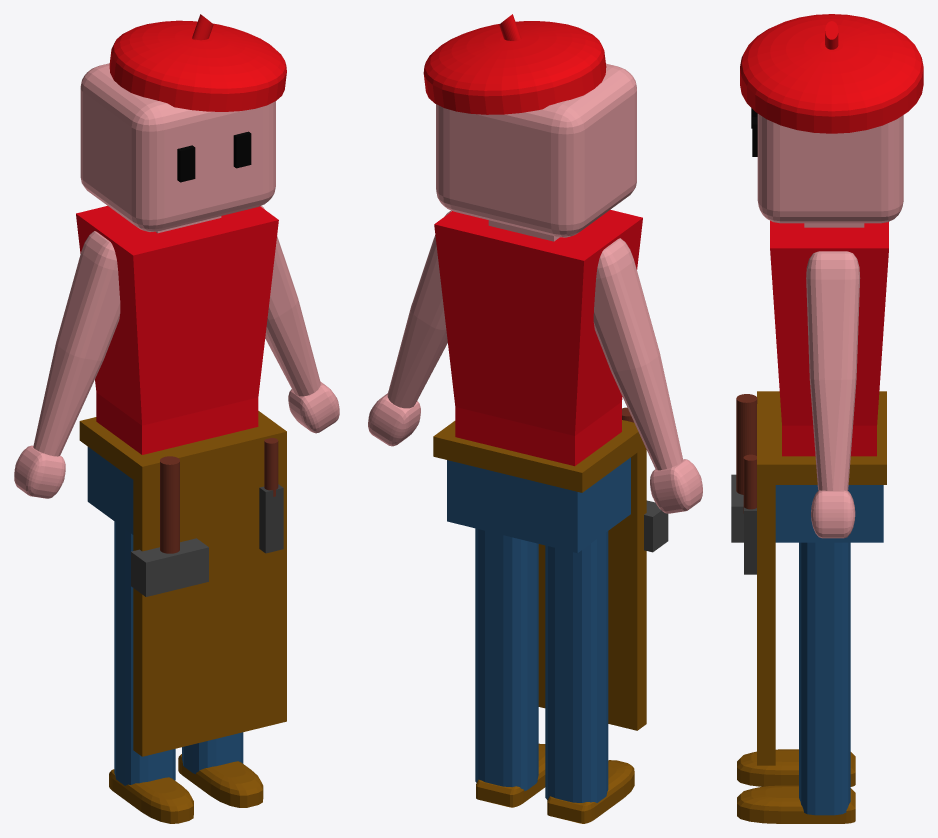
File: Sculptor.fbx
3 renders of one model, left to right at view 1: azimuth 30°, elevation 25°; view 2: azimuth 150°, elevation 25°; view 3: azimuth 270°, elevation 25°, orthographic. The views are drawn at different scales.
Visible parts, largest first — view 1: Cube.196; view 2: Cube.196; view 3: Cube.196.
Part boxes in pixels (x1,y1,x2,y2): Cube.196: (14, 14, 339, 823); Cube.196: (368, 14, 702, 823); Cube.196: (731, 14, 923, 823).
Size of the model in its own units: 612 by 1421 by 314.
